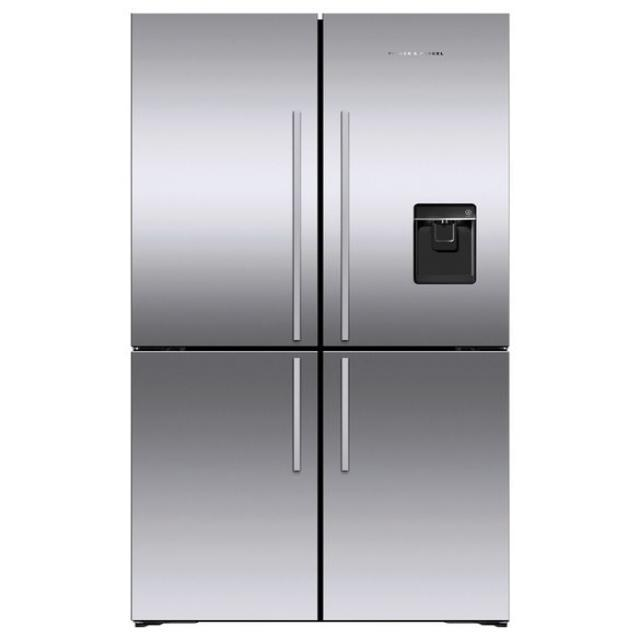obstacle: (130, 12, 506, 618)
